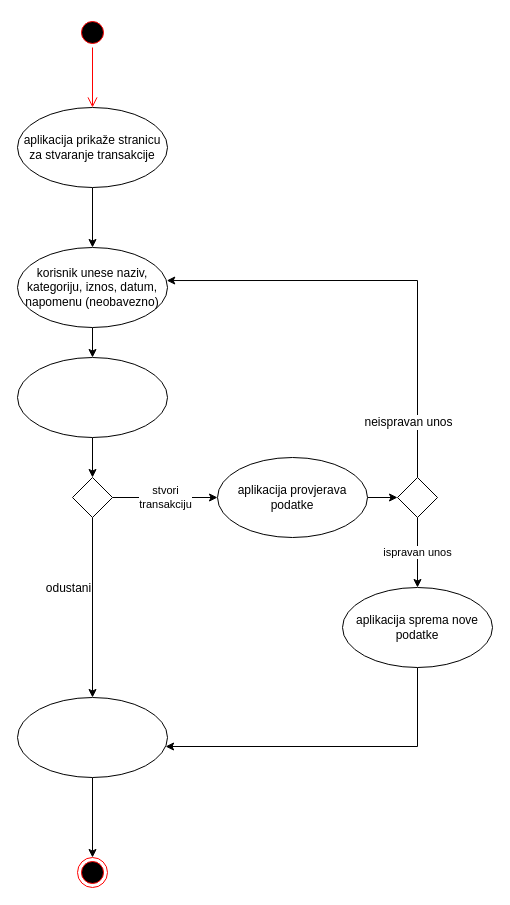
The diagram is 510 pixels wide and 905 high, and some of its shapes have lost their labels. Each missing label, with the centre of its shape:
aplikacija zatvara stranicu: pixel 92 737
korisnik odabire "stvori transakciju" ili "odustani": pixel 92 397
